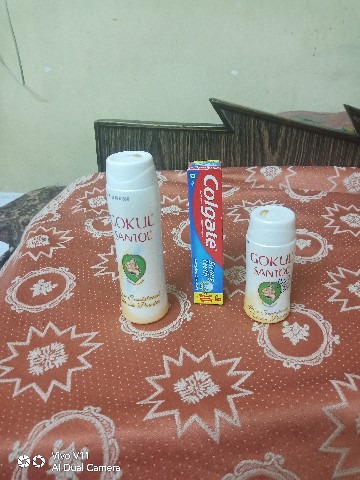colgatetoothpaste small: (180, 146, 235, 315)
gokulsantol big: (99, 139, 180, 332)
gokulsantol small: (235, 197, 308, 336)
